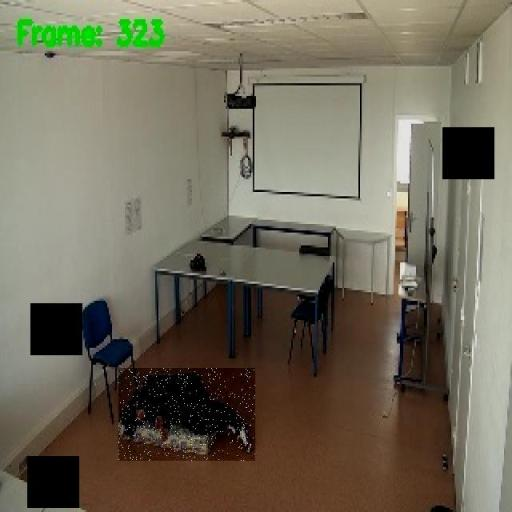Fall: (119, 368, 256, 461)
